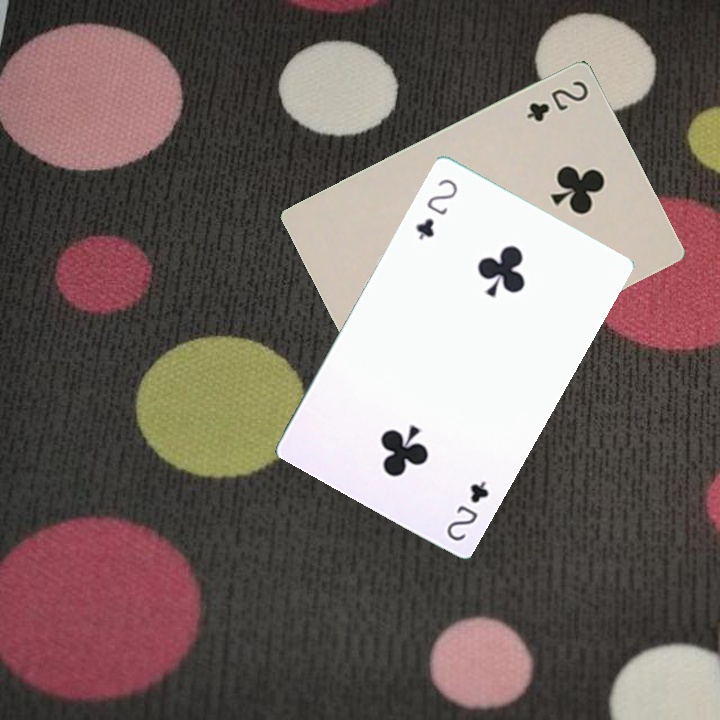2c: (411, 174, 461, 243), (442, 476, 492, 544), (522, 76, 591, 125)
